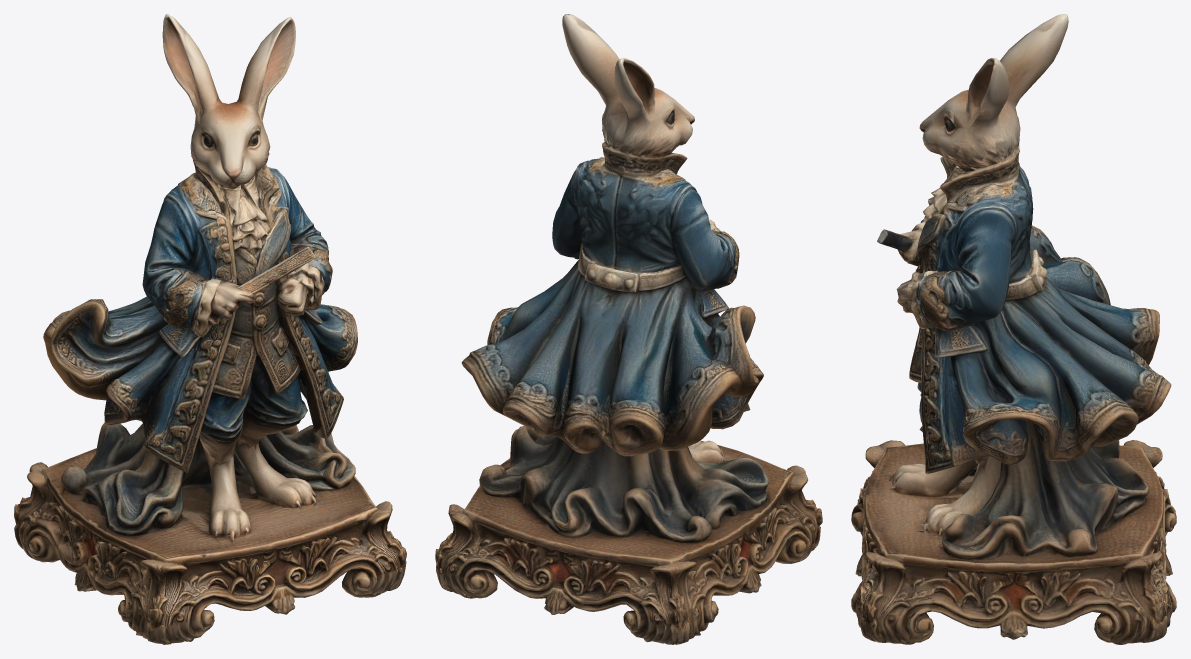
Rendered from rabbit-web.glb.
3 views of the same model, side by side, from view 1: azimuth 30°, elevation 25°; view 2: azimuth 150°, elevation 25°; view 3: azimuth 270°, elevation 25° (orthographic). The views are drawn at different scales.
Bounding box in the file's own units: 1.02 × 1.9 × 0.9996.
Materials: 1 (1 with a texture image).
